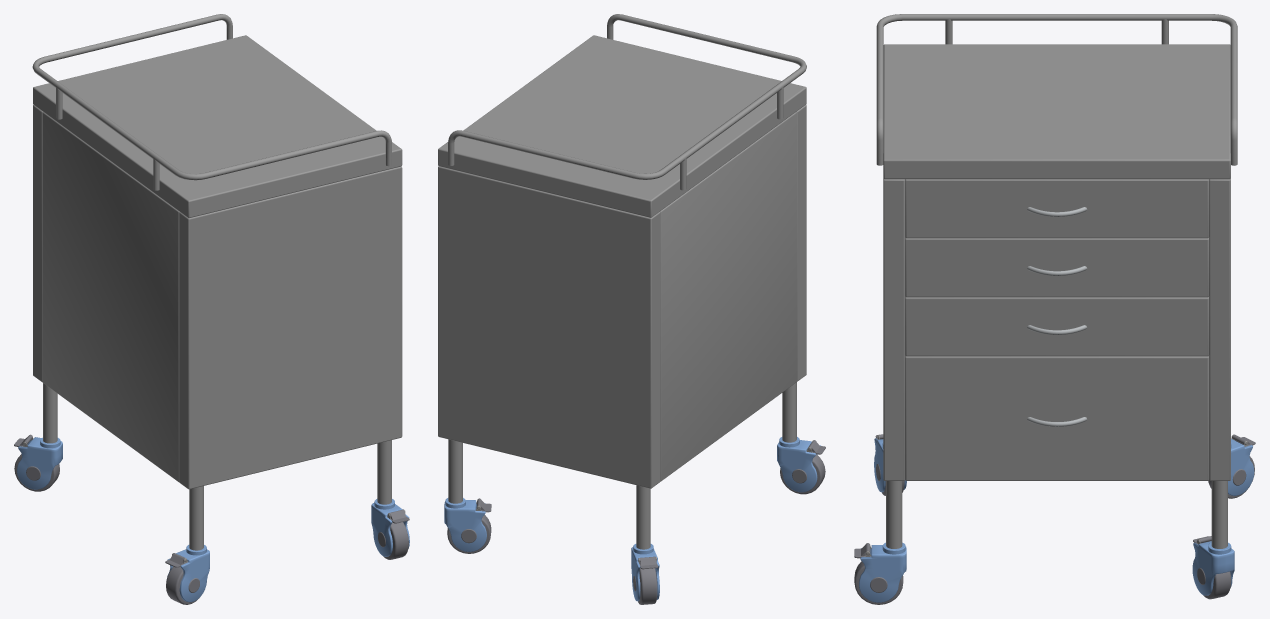
The model's file is SmallMetalCart.fbx.
3 views of the same model, side by side, from view 1: azimuth 30°, elevation 25°; view 2: azimuth 150°, elevation 25°; view 3: azimuth 270°, elevation 25° (orthographic). The views are drawn at different scales.
Visible parts, largest first — view 1: Body, round_tube, wheel, wheel_1, wheel_3; view 2: Body, round_tube, wheel_2, wheel, wheel_1; view 3: Body, round_tube, wheel_3, wheel_2, wheel_1, Handle_2, wheel.
Part boxes in pixels (bbox=[...]): Body: bbox=[33, 35, 402, 489]; round_tube: bbox=[32, 14, 391, 190]; wheel: bbox=[165, 486, 209, 604]; wheel_1: bbox=[14, 383, 62, 491]; wheel_3: bbox=[371, 440, 409, 559]; Body: bbox=[438, 35, 806, 488]; round_tube: bbox=[448, 14, 806, 190]; wheel_2: bbox=[444, 439, 491, 553]; wheel: bbox=[777, 382, 825, 494]; wheel_1: bbox=[631, 485, 659, 604]; Body: bbox=[883, 44, 1230, 480]; round_tube: bbox=[876, 14, 1237, 165]; wheel_3: bbox=[854, 481, 906, 604]; wheel_2: bbox=[1192, 481, 1234, 599]; wheel_1: bbox=[1208, 434, 1255, 498]; Handle_2: bbox=[1027, 207, 1087, 426]; wheel: bbox=[874, 434, 906, 495].
Bounding box in the file's own units: 43.36 × 72.75 × 55.46.
